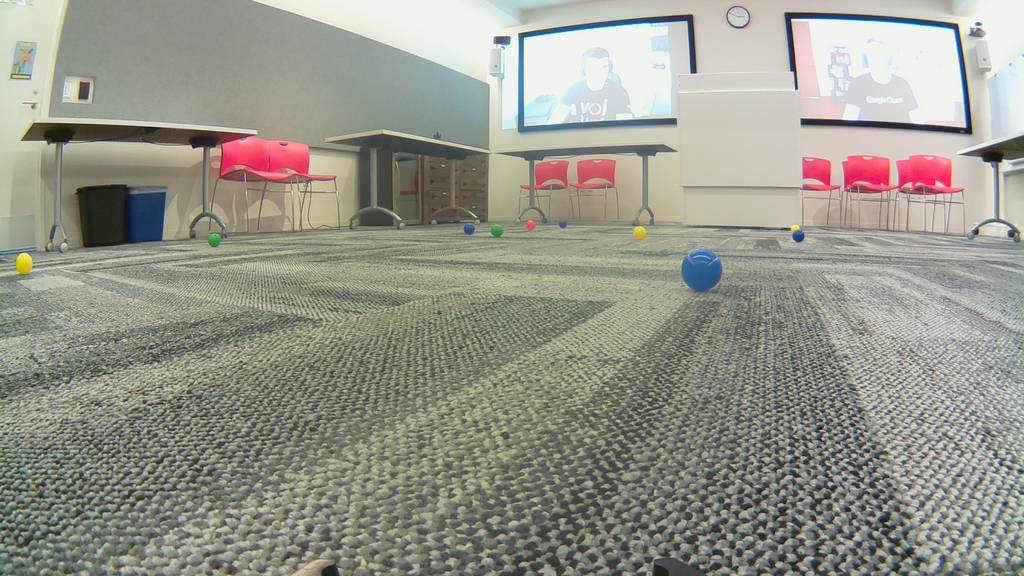ball: (793, 231, 805, 241)
